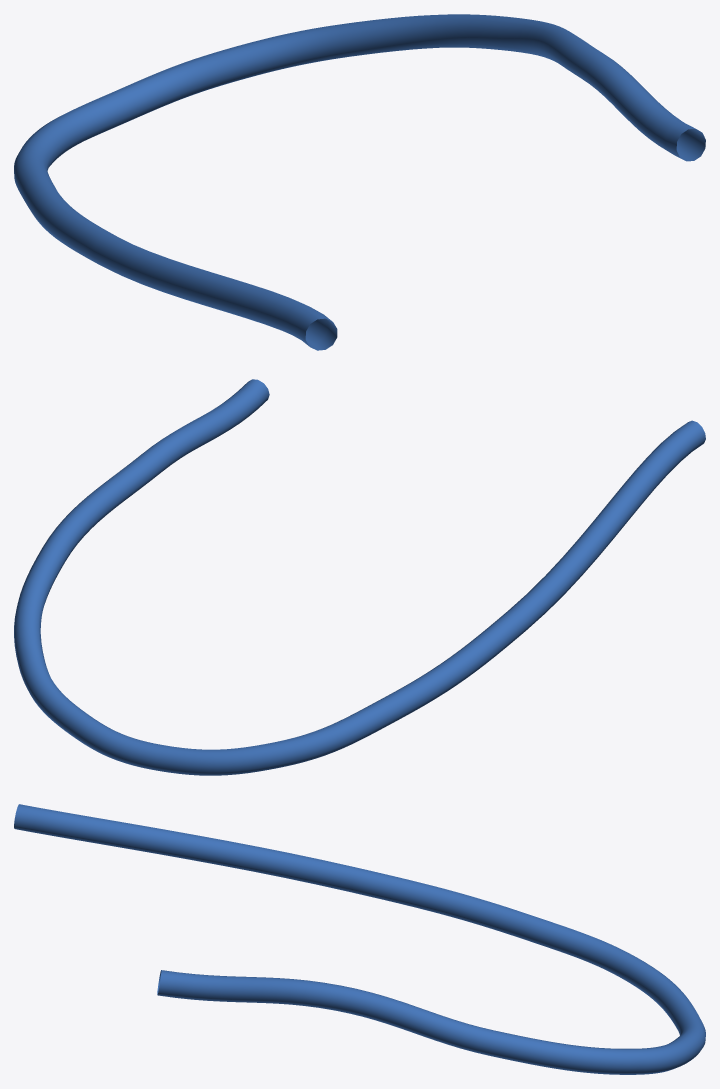
3 views of the same model, one above another, from view 1: azimuth 30°, elevation 25°; view 2: azimuth 150°, elevation 25°; view 3: azimuth 270°, elevation 25° (orthographic). The views are drawn at different scales.
Visible parts, largest first — view 1: 左侧手背静脉网; view 2: 左侧手背静脉网; view 3: 左侧手背静脉网.
Boxes of the visible parts, x1,y1,x2,y2 form: 左侧手背静脉网: (14, 14, 705, 350); 左侧手背静脉网: (14, 379, 705, 775); 左侧手背静脉网: (14, 804, 705, 1074).
Size of the model in its own units: 0.0719 by 0.0244 by 0.1054.
